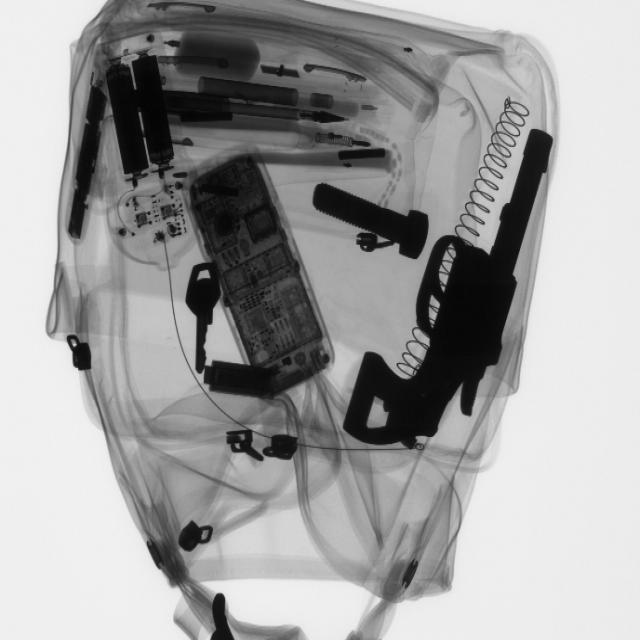GUN: (350, 121, 552, 453)
